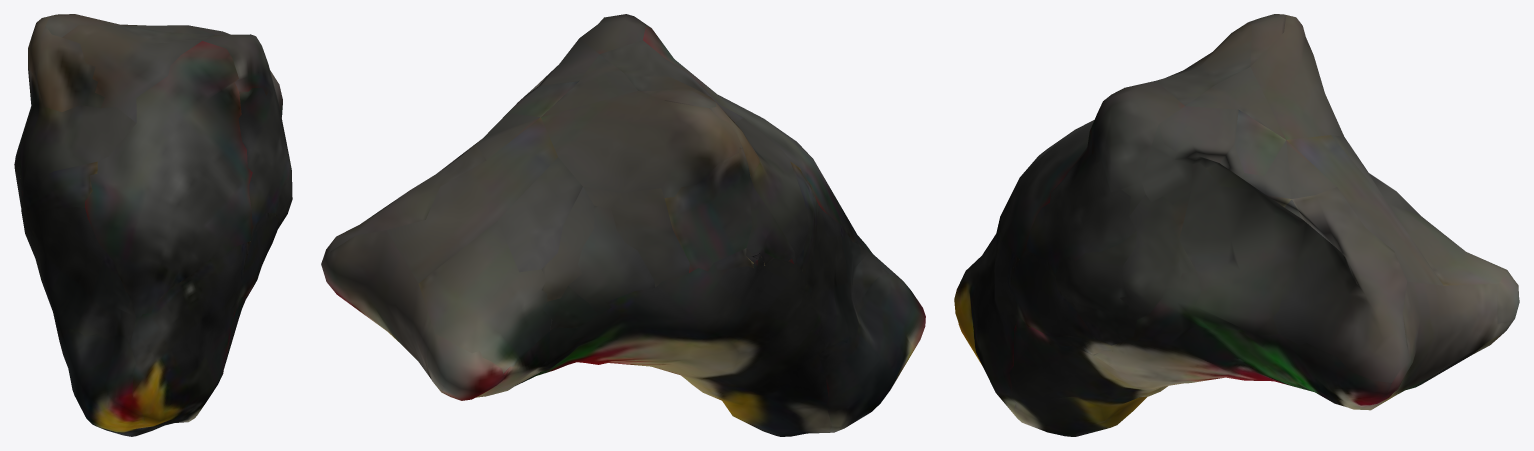
The model's file is hall.glb.
The picture shows the model from 3 angles, left to right: view 1: azimuth 30°, elevation 25°; view 2: azimuth 150°, elevation 25°; view 3: azimuth 270°, elevation 25°; orthographic projection. The views are drawn at different scales.
Bounding box in the file's own units: 0.3685 × 0.3526 × 0.4435.
1 material, 1 textured.
